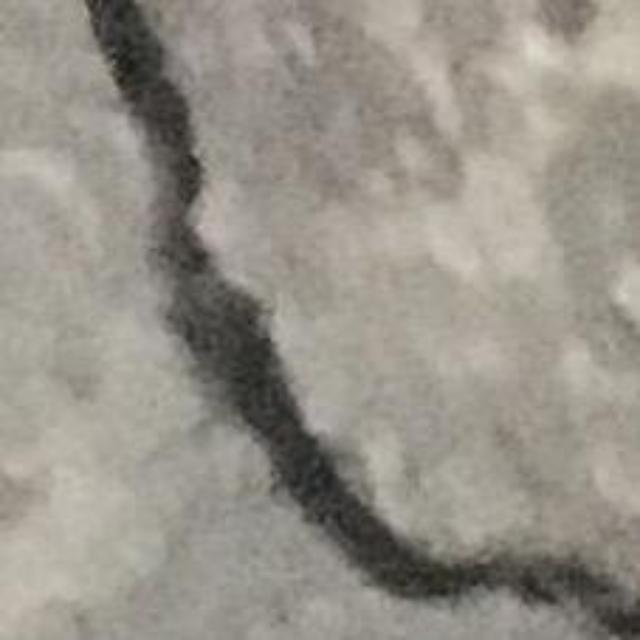crack: (85, 0, 639, 637)
